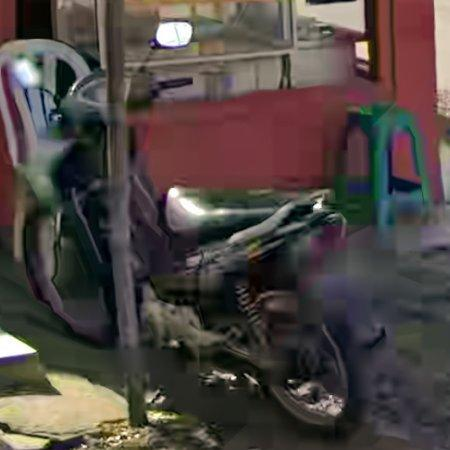motorcycles: (121, 164, 388, 428), (14, 71, 120, 345)
